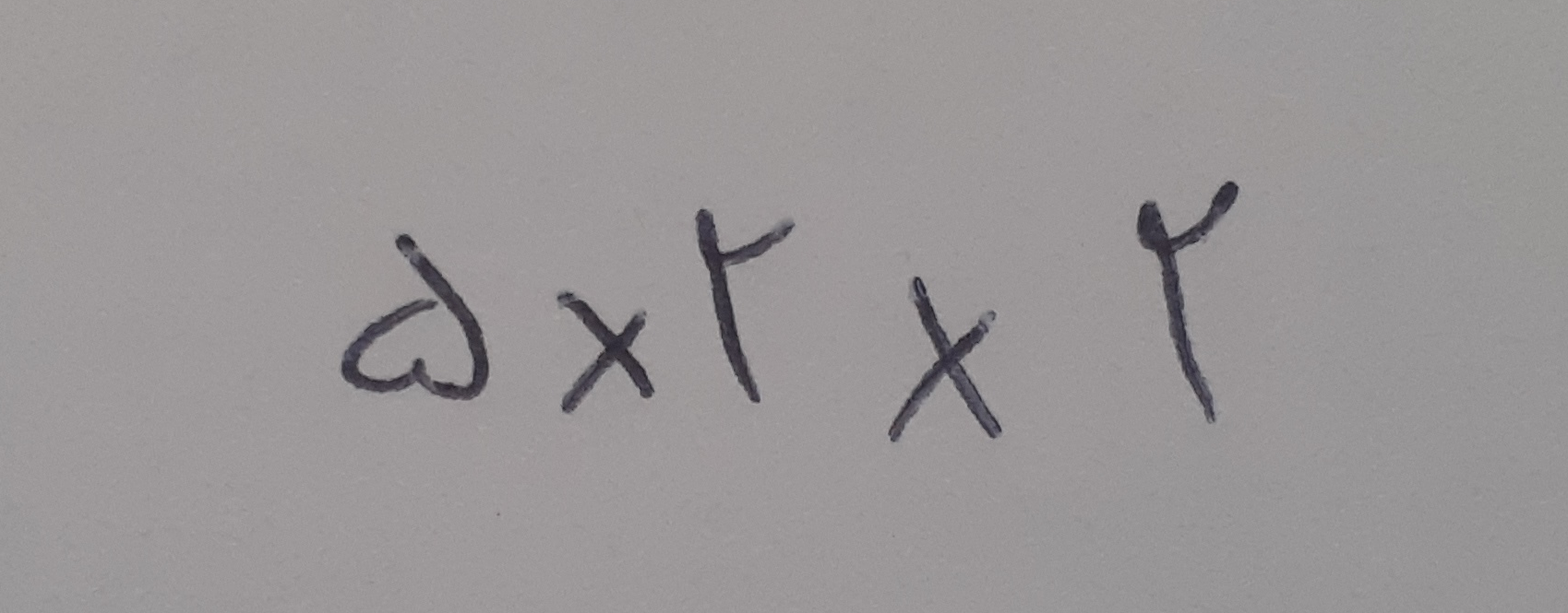character: (340, 234, 491, 400), (1139, 182, 1238, 421), (887, 275, 1004, 443), (695, 209, 797, 401), (555, 292, 655, 414)
